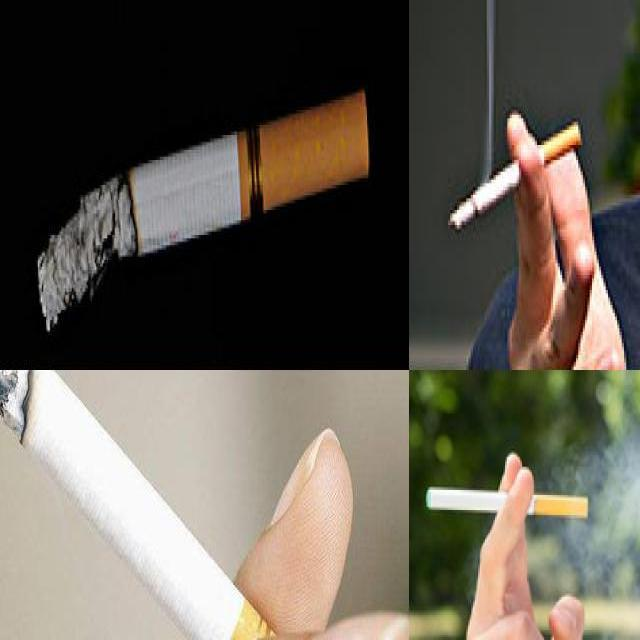smoking: (0, 370, 404, 638), (35, 87, 369, 336), (447, 121, 583, 232), (426, 484, 588, 518)
